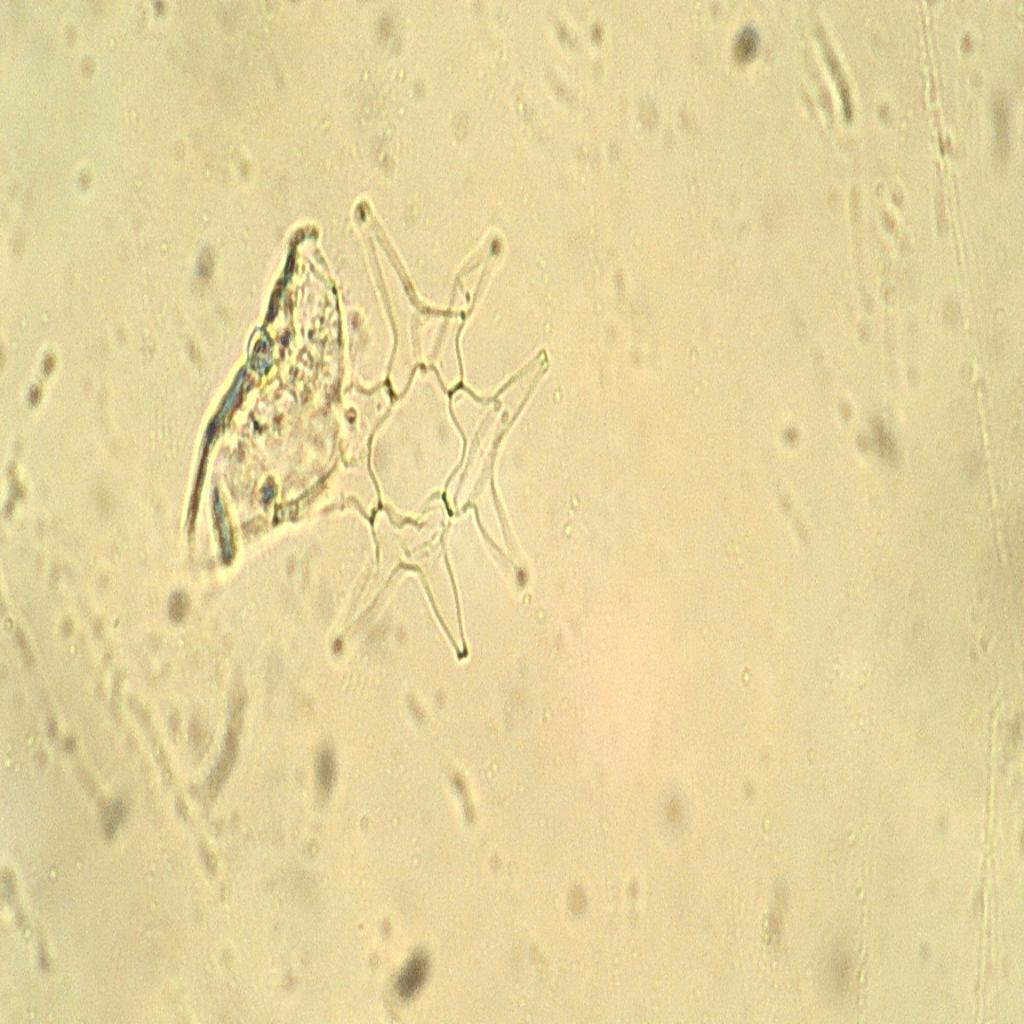Pediastrum_1F0: (258, 184, 567, 718)
